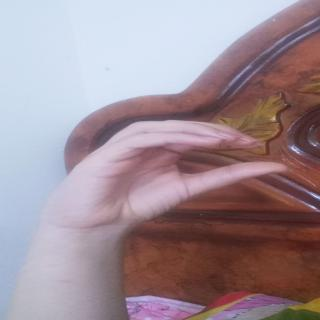JEEM: (48, 119, 308, 232)
